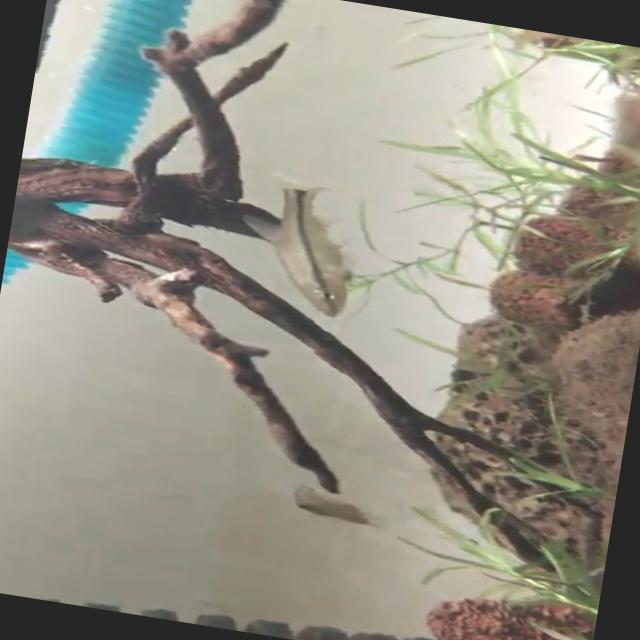Cakil Baligi: (225, 174, 368, 320)
